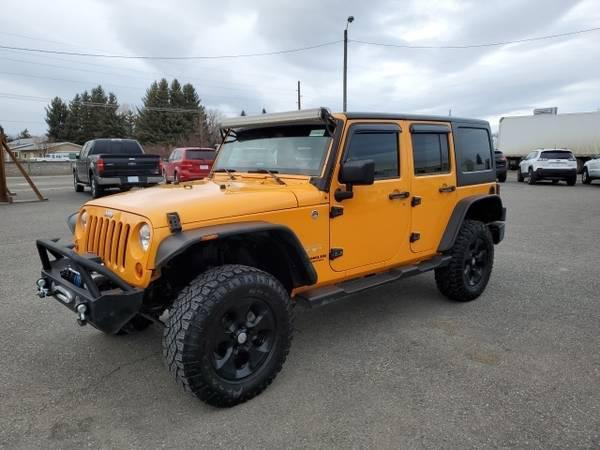Front_Bumper: (37, 238, 146, 332)
Front_Fender: (147, 200, 332, 293)
Front_Left_Door: (327, 175, 411, 278)
Front_Left_Window: (329, 117, 409, 182)
Front_Windshield: (209, 123, 342, 179)
Grille: (75, 203, 155, 285)
Hood: (87, 174, 329, 226)
Rear_Fender: (437, 118, 506, 245)
Rear_Left_Door: (411, 173, 458, 256)
Rear_Left_Window: (405, 117, 455, 177)
Wheel: (162, 264, 291, 402), (436, 221, 496, 301)
